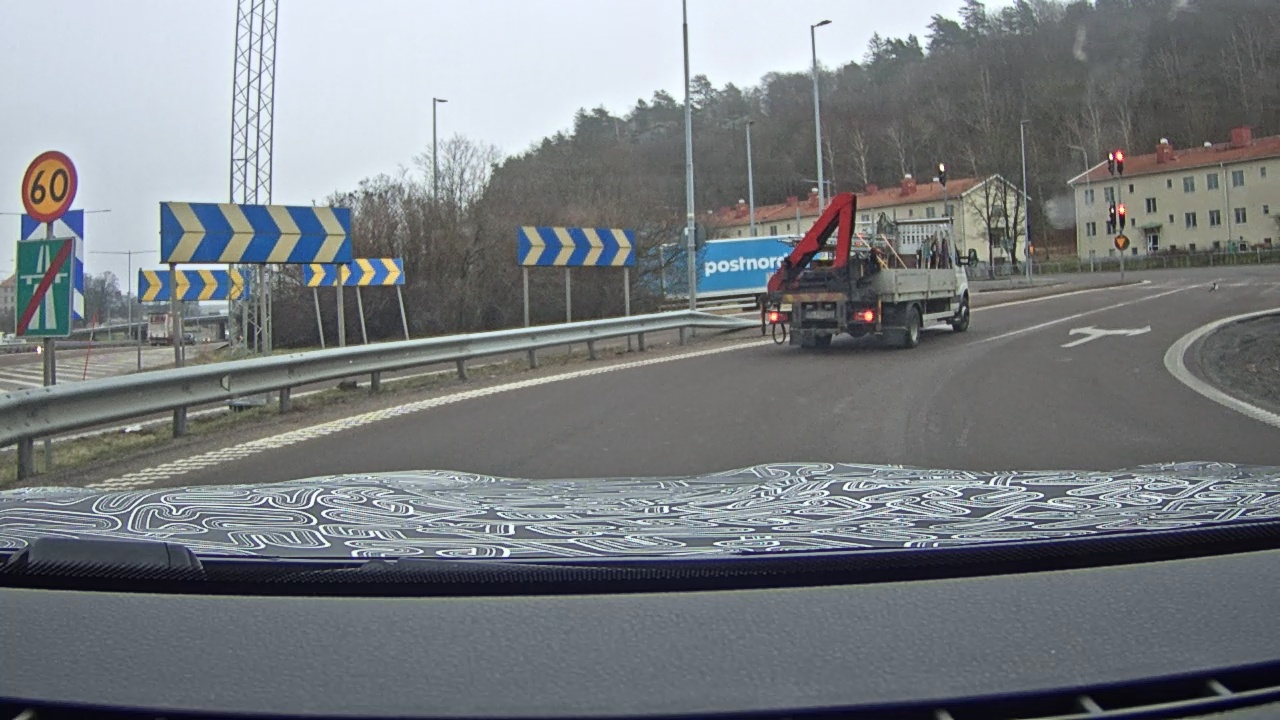Regular_End_Of_Motorway: (16, 237, 72, 338)
